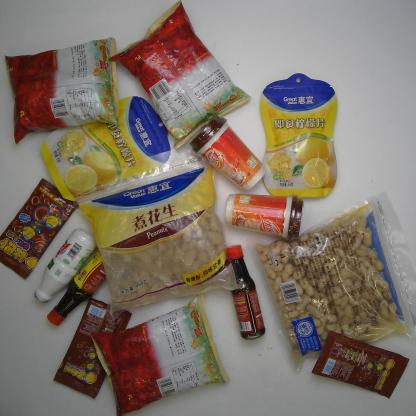Candy: (0, 177, 77, 280), (52, 298, 130, 398), (310, 330, 410, 400)
Dried Food: (248, 195, 413, 371), (72, 154, 240, 319)
Dried Fruit: (40, 94, 173, 203), (257, 72, 340, 199)
Instant Drink: (188, 115, 266, 191), (224, 191, 306, 243)
Milk: (32, 229, 98, 302)
Puffed Food: (108, 1, 249, 148), (87, 295, 231, 415), (5, 36, 121, 144)
Seasoner: (47, 251, 107, 325), (222, 244, 264, 340)
